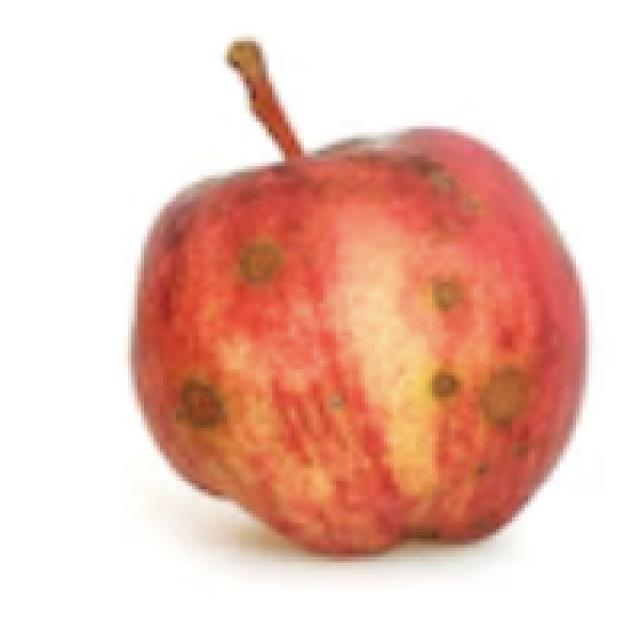rotten_apple: (128, 100, 598, 561)
